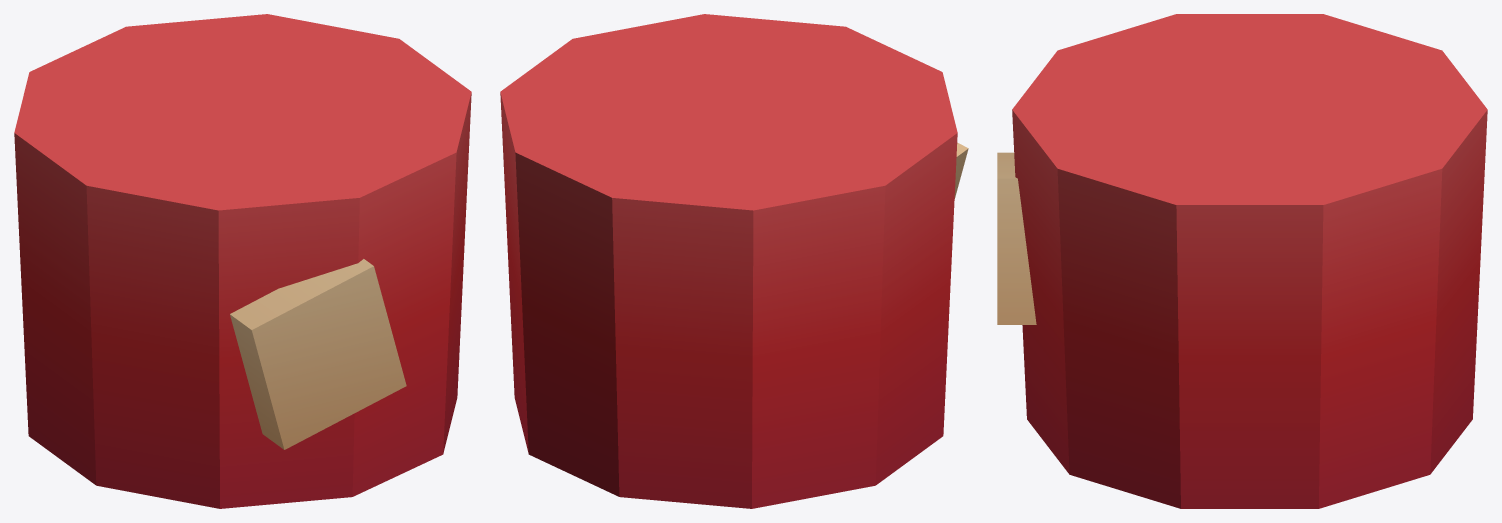
File: patchwork_pants_thigh_r.glb
3 renders of one model, left to right at view 1: azimuth 30°, elevation 25°; view 2: azimuth 150°, elevation 25°; view 3: azimuth 270°, elevation 25°, orthographic.
Parts seen in each view (by area): view 1: patchwork_pants_thigh; view 2: patchwork_pants_thigh; view 3: patchwork_pants_thigh.
Boxes of the visible parts, <box> form: patchwork_pants_thigh: <box>14,14,471,508</box>; patchwork_pants_thigh: <box>500,14,968,508</box>; patchwork_pants_thigh: <box>997,14,1487,508</box>.
Size of the model in its own units: 0.3043 by 0.23 by 0.33.
Materials: 1 (1 with a texture image).
